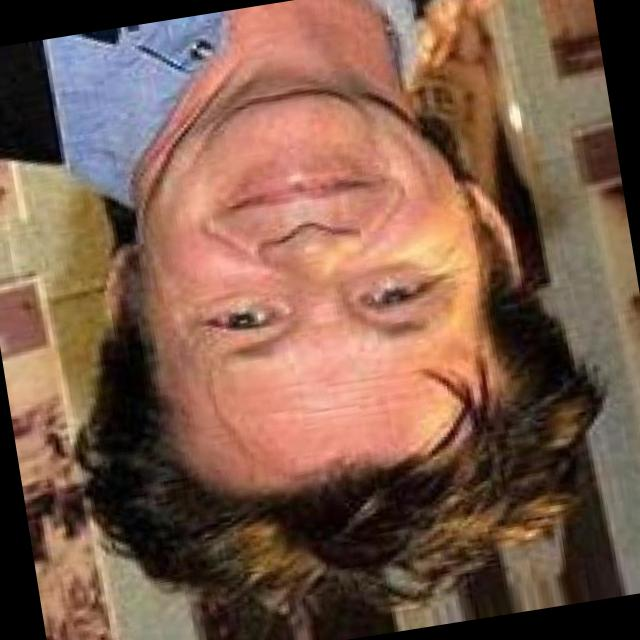bareface: (74, 62, 548, 565)
